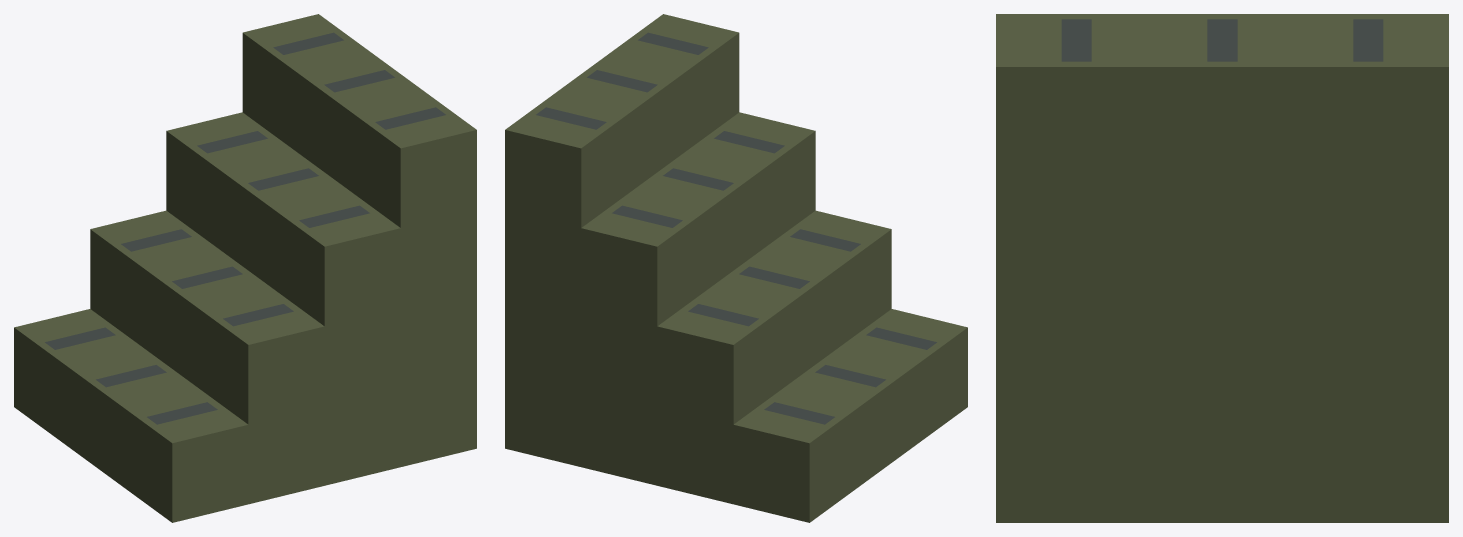
File: Stairs.gltf
3 renders of one model, left to right at view 1: azimuth 30°, elevation 25°; view 2: azimuth 150°, elevation 25°; view 3: azimuth 270°, elevation 25°, orthographic. The views are drawn at different scales.
Visible parts, largest first — view 1: Stairs; view 2: Stairs; view 3: Stairs.
Boxes of the visible parts, x1,y1,x2,y2 form: Stairs: (14,14,476,522); Stairs: (505,14,967,522); Stairs: (996,14,1448,522).
Size of the model in its own units: 1 by 1 by 0.9.
